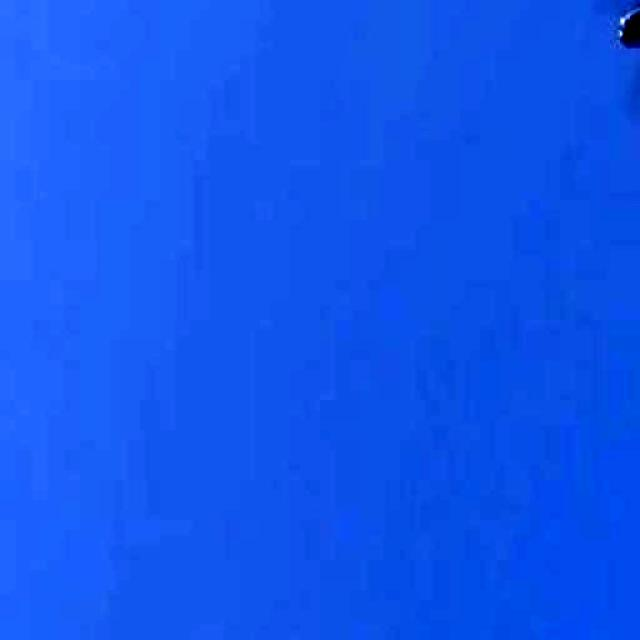drone: (534, 0, 640, 174)
